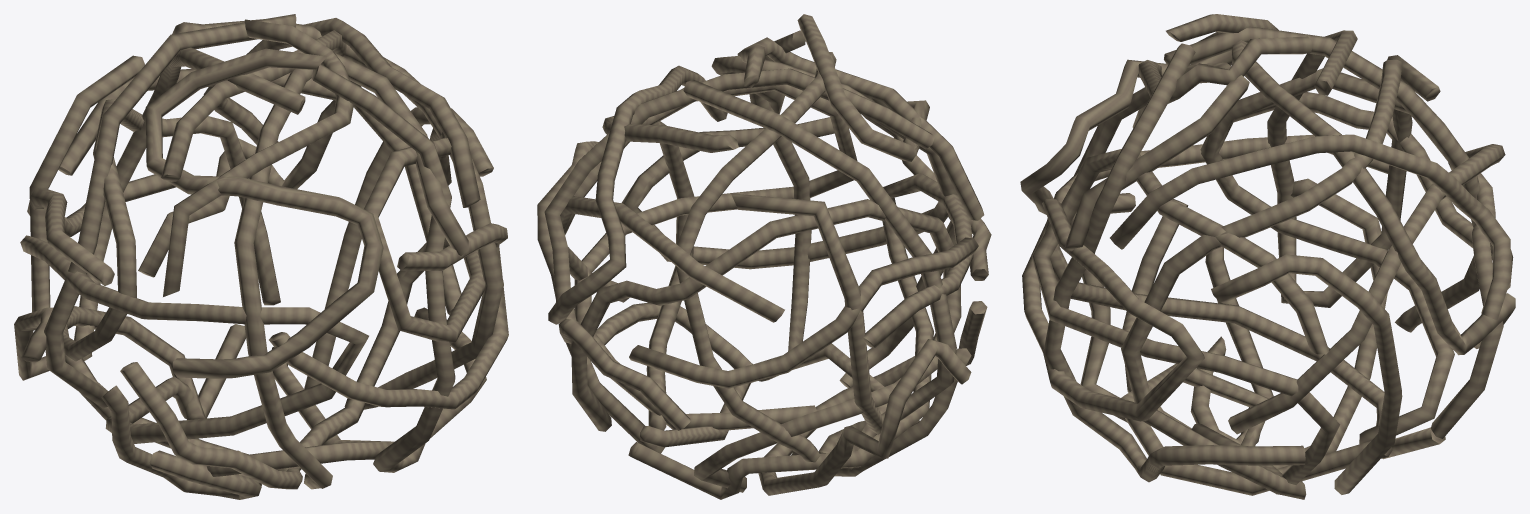
File: Mess_Hairball.fbx
3 renders of one model, left to right at view 1: azimuth 30°, elevation 25°; view 2: azimuth 150°, elevation 25°; view 3: azimuth 270°, elevation 25°, orthographic. The views are drawn at different scales.
Visible parts, largest first — view 1: Mess_Hairball; view 2: Mess_Hairball; view 3: Mess_Hairball.
Boxes of the visible parts, x1,y1,x2,y2 form: Mess_Hairball: (14, 14, 508, 499); Mess_Hairball: (537, 14, 991, 499); Mess_Hairball: (1020, 14, 1515, 499).
Bounding box in the file's own units: 25.96 × 25.68 × 25.5.
